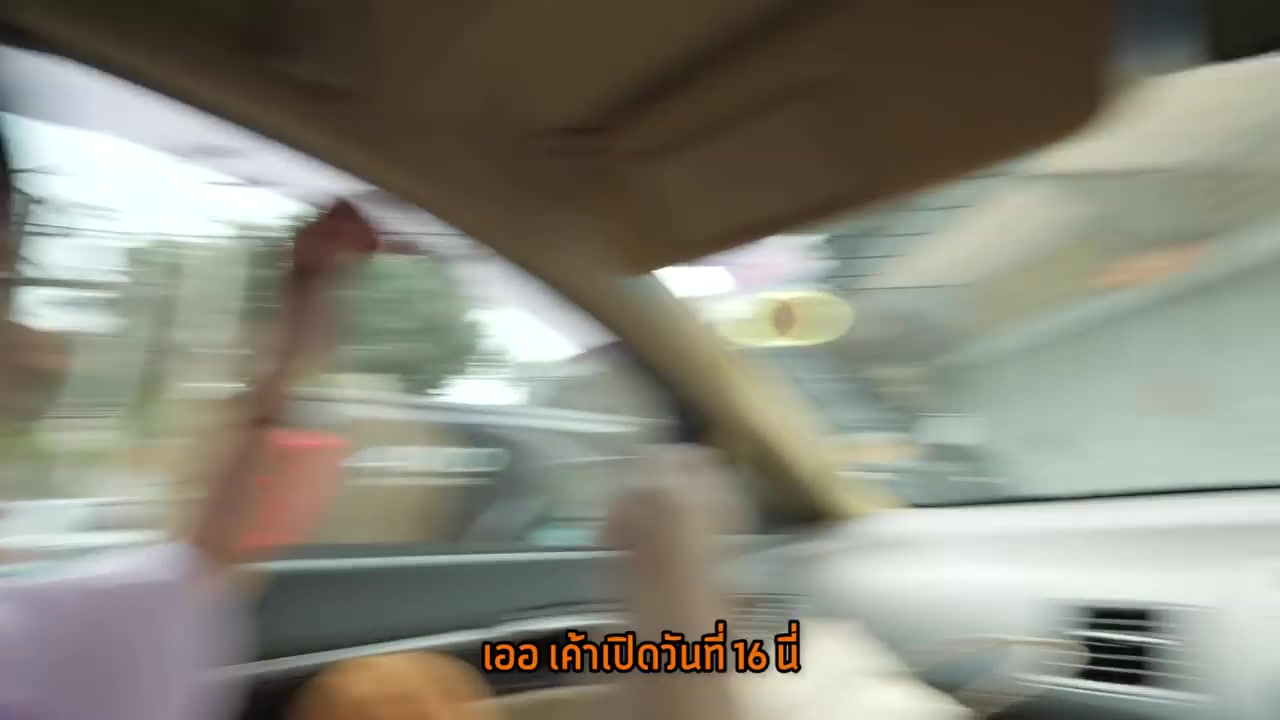text-label: (479, 619, 806, 677)
